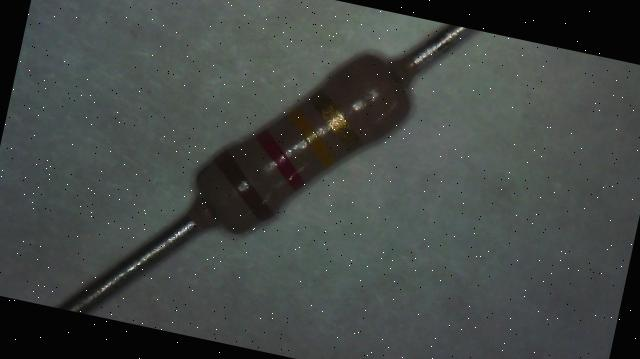brown: (204, 149, 283, 222)
gold: (305, 92, 368, 150)
red: (246, 127, 313, 190)
resistor: (149, 27, 432, 278)
yellow: (278, 106, 344, 168)
